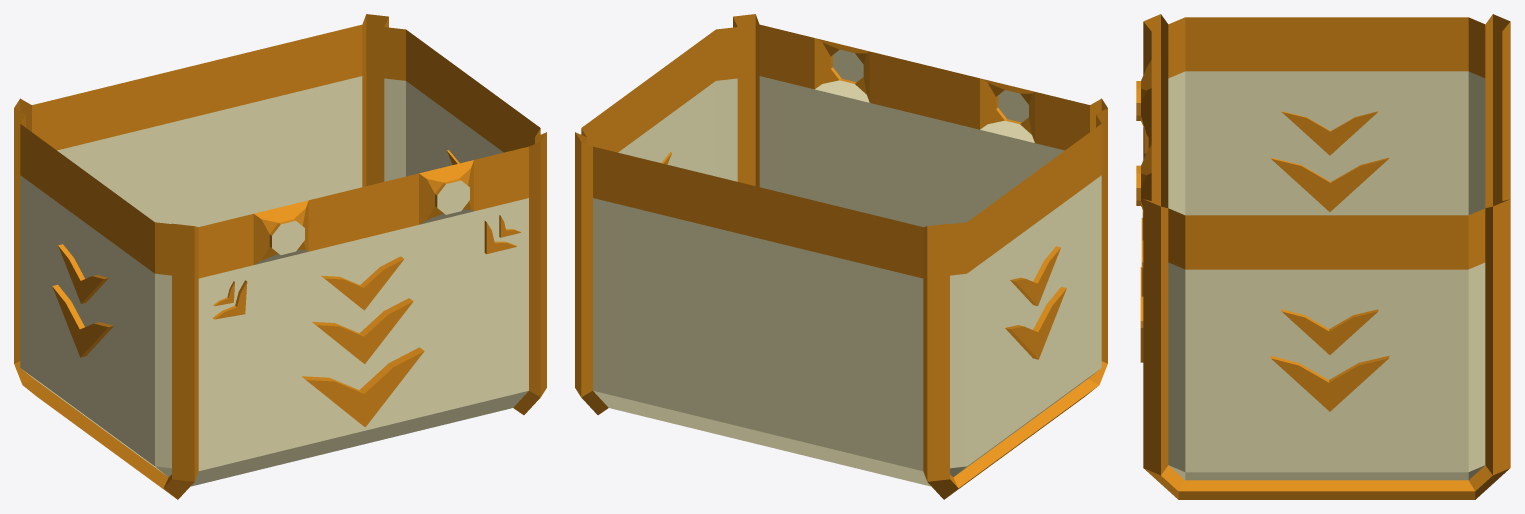
File: Kasa Bottom.fbx
The picture shows the model from 3 angles, left to right: view 1: azimuth 30°, elevation 25°; view 2: azimuth 150°, elevation 25°; view 3: azimuth 270°, elevation 25°; orthographic projection. The views are drawn at different scales.
Visible parts, largest first — view 1: Kasa Bottom; view 2: Kasa Bottom; view 3: Kasa Bottom.
Part boxes in pixels (x1,y1,x2,y2): Kasa Bottom: [14, 14, 546, 499]; Kasa Bottom: [575, 14, 1107, 499]; Kasa Bottom: [1136, 14, 1510, 499].
Bounding box in the file's own units: 275 × 189 × 213.
